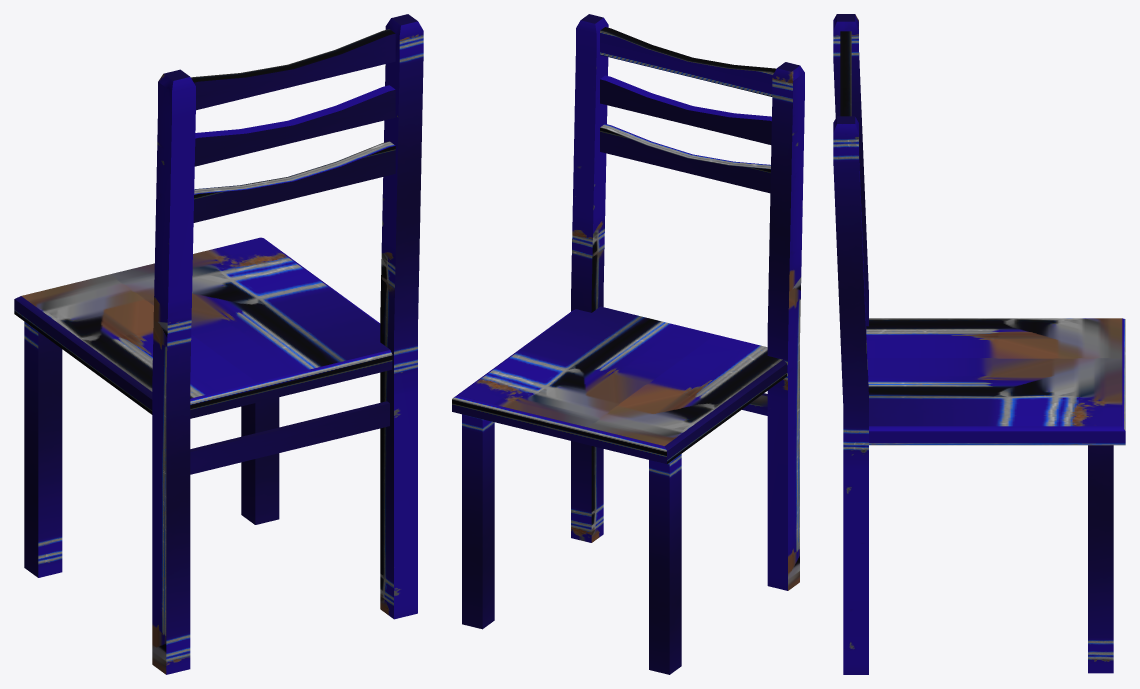
The model's file is Chair.fbx.
3 renders of one model, left to right at view 1: azimuth 30°, elevation 25°; view 2: azimuth 150°, elevation 25°; view 3: azimuth 270°, elevation 25°, orthographic. The views are drawn at different scales.
Parts seen in each view (by area): view 1: Object_3; view 2: Object_3; view 3: Object_3.
Boxes of the visible parts, <box> form: Object_3: <box>14,14,423,674</box>; Object_3: <box>452,14,804,674</box>; Object_3: <box>833,14,1125,674</box>.
Bounding box in the file's own units: 375 × 851 × 410.
